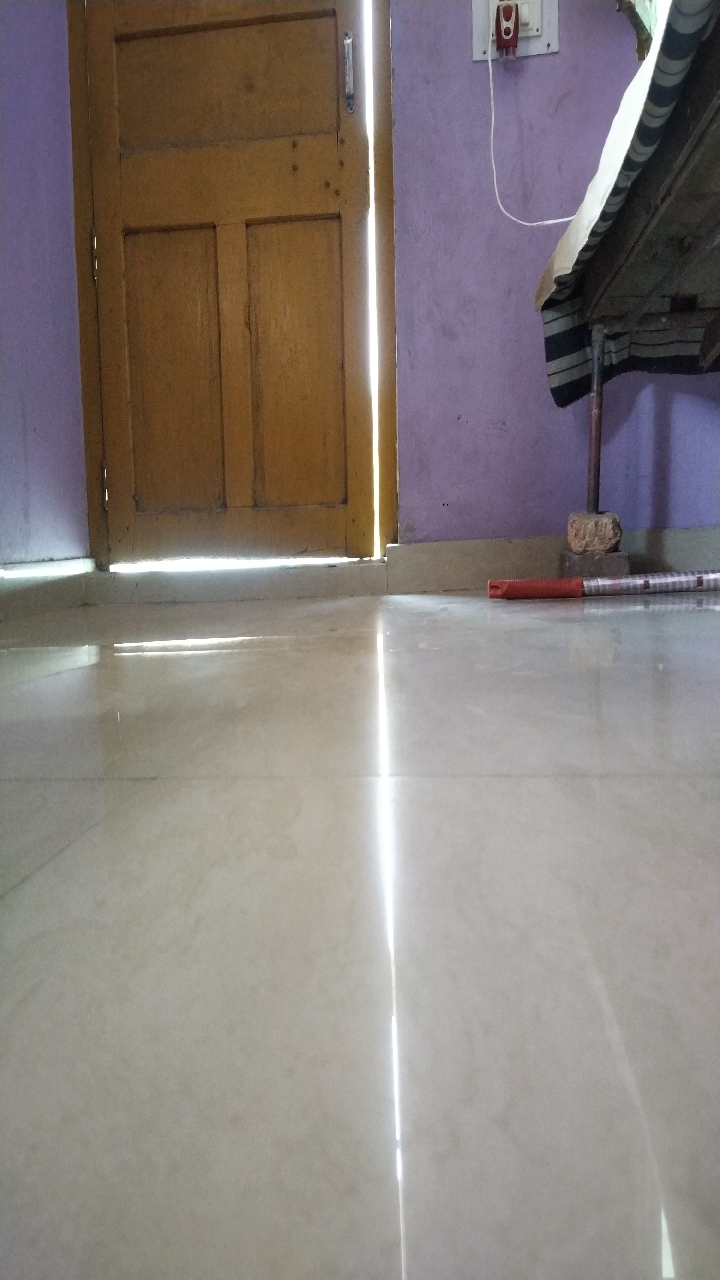Doors: (66, 176, 417, 575)
Furnitures: (555, 392, 637, 569)
cables: (474, 60, 563, 227)
